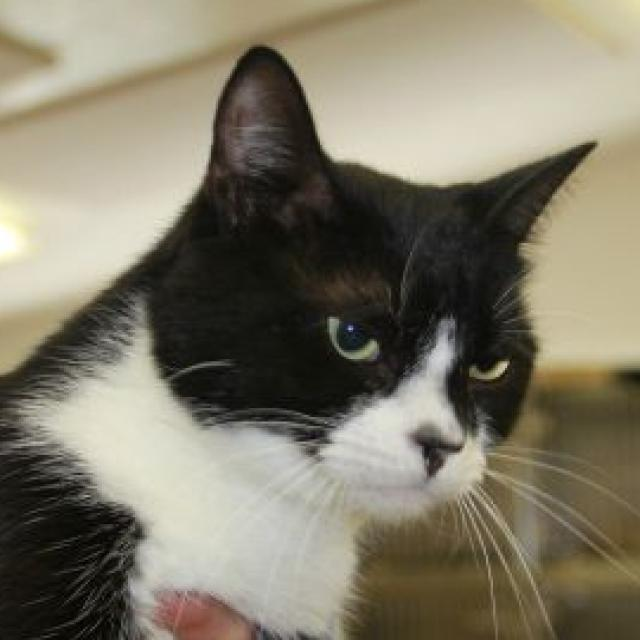Tuxedo: (0, 38, 600, 640)
